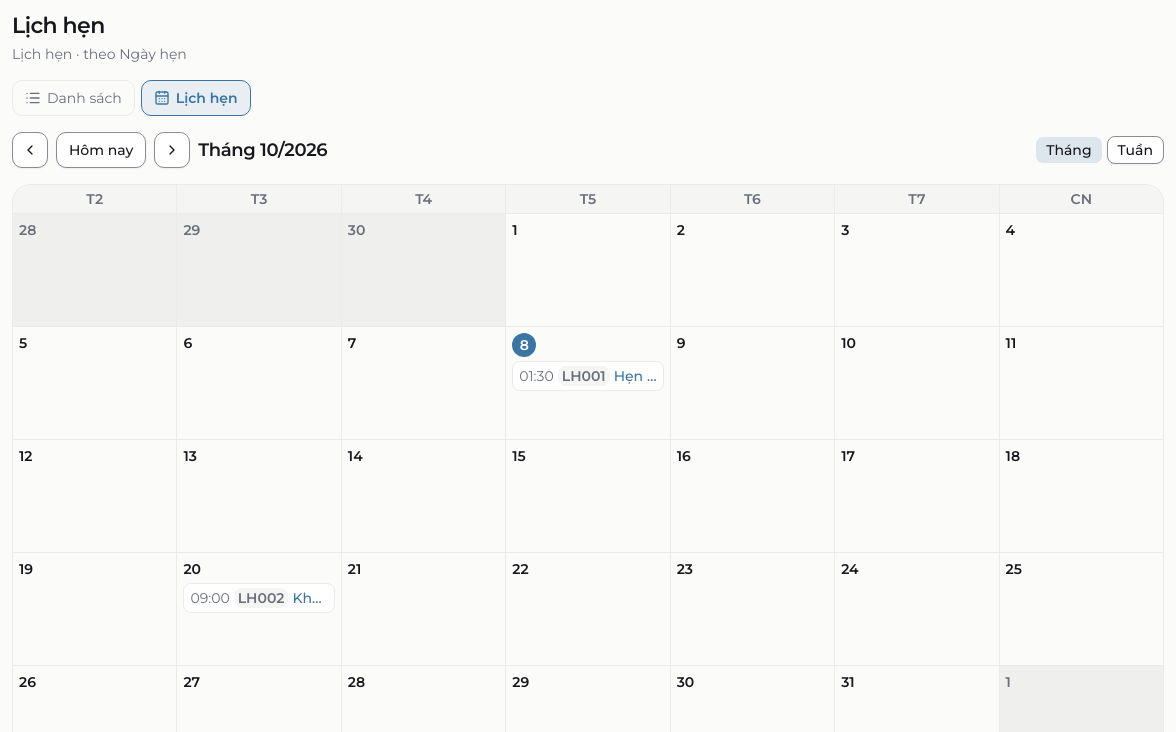
Test case: kiểu xem Lịch › đặt bản ghi đúng ngày (giờ VN), lọc BE theo khoảng đang xem, đổi tháng/tuần
Expected: the heading with test id "calendar-title" reads "Tháng 10/2026", [198,138,327,160]
Expected: the number of links with test id "calendar-entry" is 2, [512,360,664,390]; [183,582,335,612]
What coordinates should you click on to do the following:
click the button "Tuần"
I would click on:
 (1135, 150)
Its box is [1107,136,1164,164].
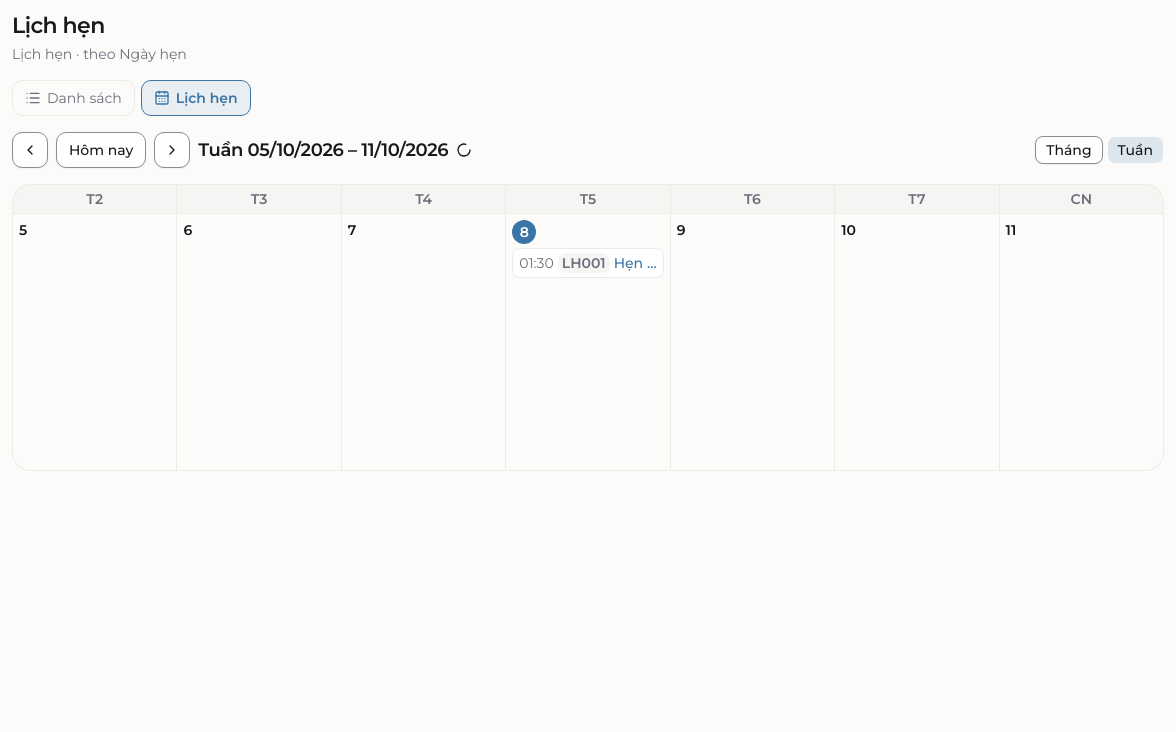
Now the heading with test id "calendar-title" reads "Tuần 05/10/2026 – 11/10/2026", box [198,138,448,160]
What coordinates should you click on to do the following:
click the button named "Tuần sau"
I would click on:
 (172, 150)
Its box is [154,132,190,168].
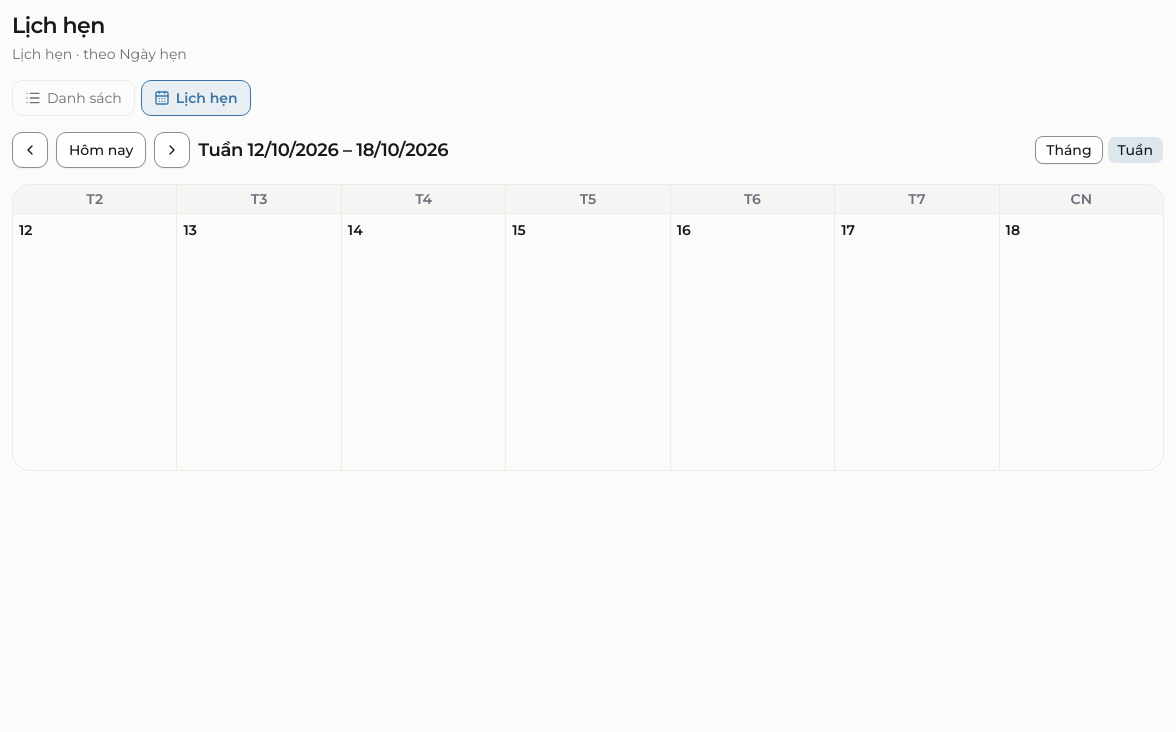
Now the heading with test id "calendar-title" reads "Tuần 12/10/2026 – 18/10/2026", box [198,138,448,160]
